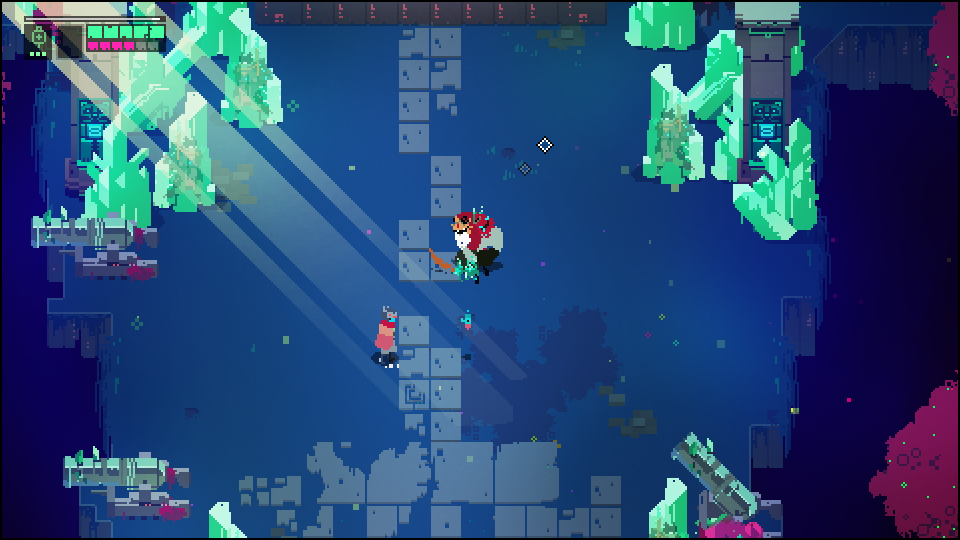hanged_man: (428, 207, 510, 284)
player: (375, 304, 401, 368)
